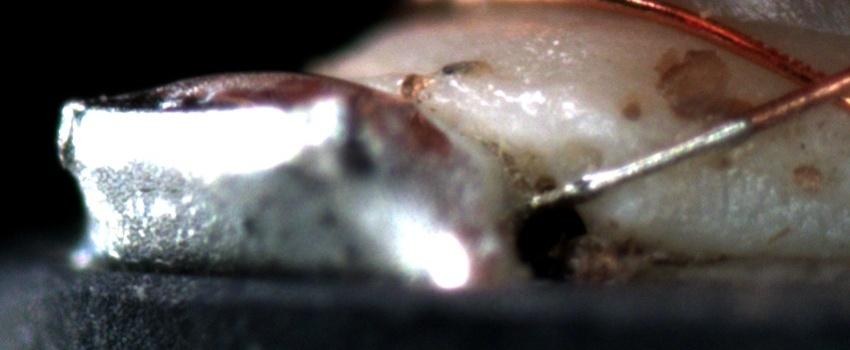CL: (772, 54, 849, 114)
TS: (532, 118, 752, 205)
